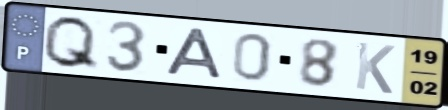0: (230, 31, 276, 85)
3: (104, 19, 152, 75)
8: (296, 37, 341, 89)
A: (163, 25, 226, 82)
K: (352, 40, 398, 97)
Q: (38, 14, 102, 73)
